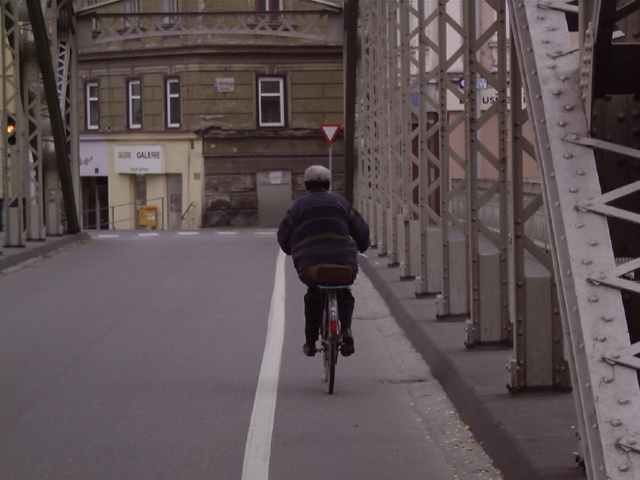person: (278, 166, 367, 372)
